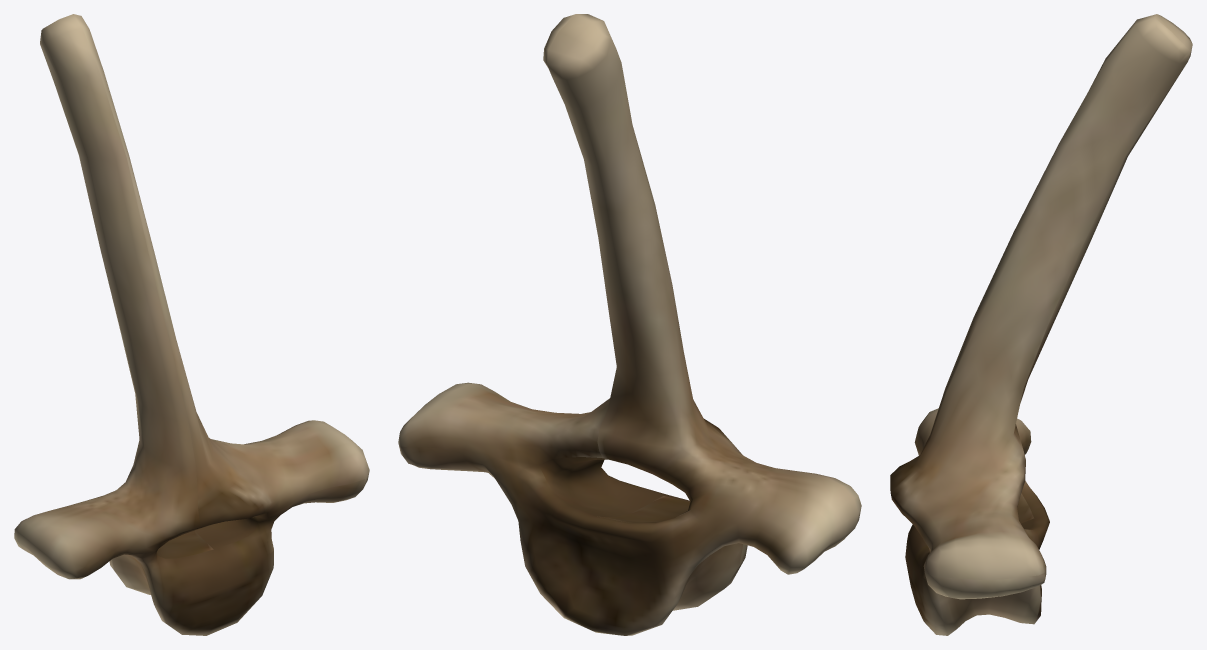
File: Thoracic_Vertebrae5.glb
The picture shows the model from 3 angles, left to right: view 1: azimuth 30°, elevation 25°; view 2: azimuth 150°, elevation 25°; view 3: azimuth 270°, elevation 25°; orthographic projection. The views are drawn at different scales.
Parts seen in each view (by area): view 1: Horse_low:SelSet_46Merged_L_Frt_Sesamoid_Bones_2; view 2: Horse_low:SelSet_46Merged_L_Frt_Sesamoid_Bones_2; view 3: Horse_low:SelSet_46Merged_L_Frt_Sesamoid_Bones_2.
Boxes of the visible parts, bbox=[...] form: Horse_low:SelSet_46Merged_L_Frt_Sesamoid_Bones_2: bbox=[14, 14, 369, 635]; Horse_low:SelSet_46Merged_L_Frt_Sesamoid_Bones_2: bbox=[398, 14, 861, 635]; Horse_low:SelSet_46Merged_L_Frt_Sesamoid_Bones_2: bbox=[890, 14, 1192, 635].
Bounding box in the file's own units: 0.1444 × 0.2318 × 0.1076.
Materials: 1 (1 with a texture image).
